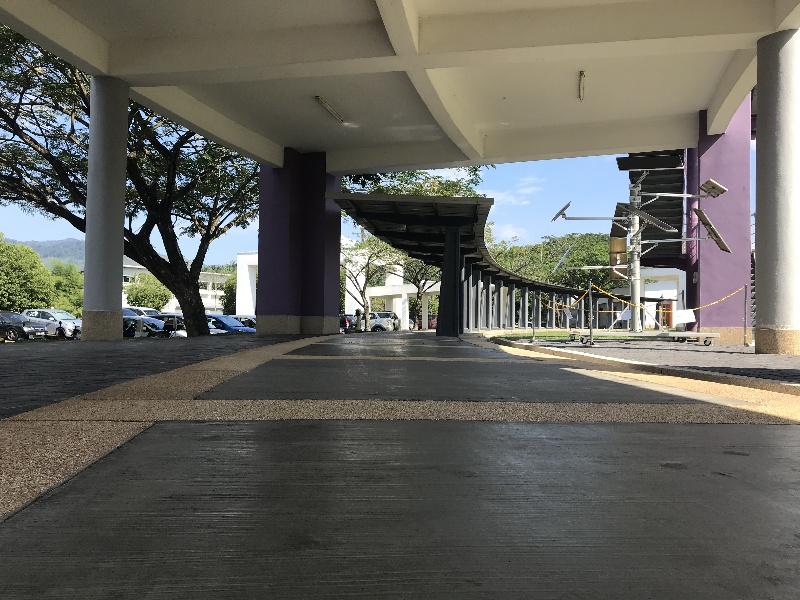Block D Pillar 5: (5, 7, 800, 556)
pillar: (670, 78, 757, 364), (241, 135, 354, 349), (64, 56, 139, 352), (742, 23, 799, 402), (431, 221, 473, 348)
